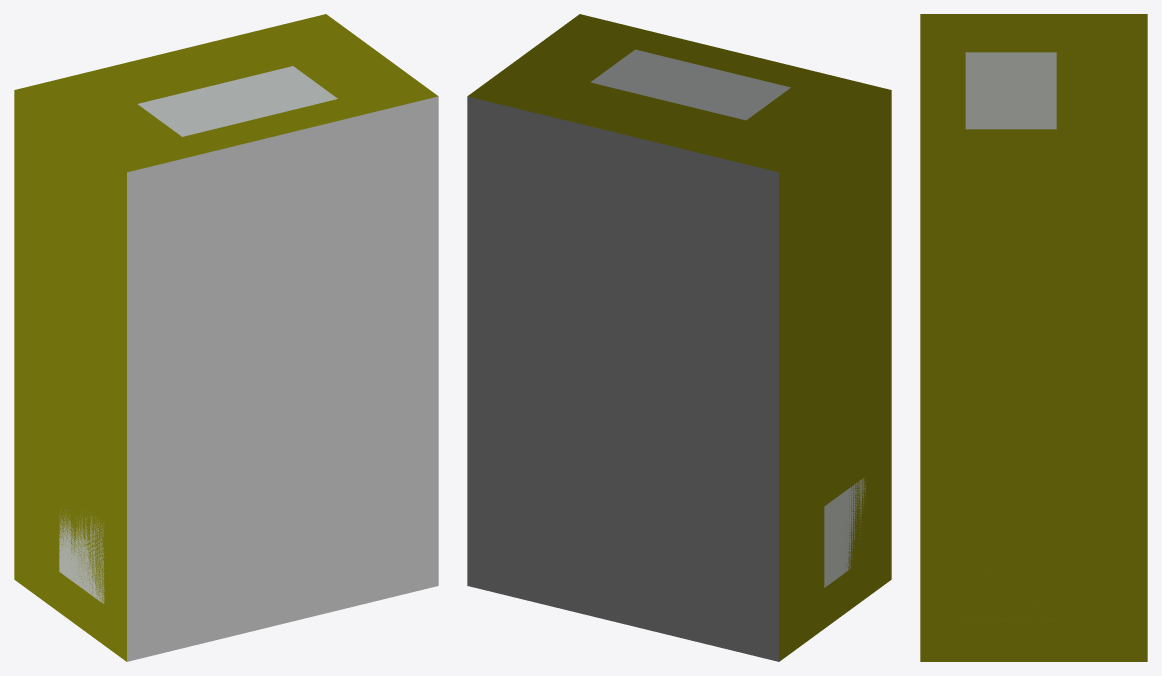
The model's file is idf.obj.
The picture shows the model from 3 angles, left to right: view 1: azimuth 30°, elevation 25°; view 2: azimuth 150°, elevation 25°; view 3: azimuth 270°, elevation 25°; orthographic projection.
Bounding box in the file's own units: 4 × 6 × 2.5.
